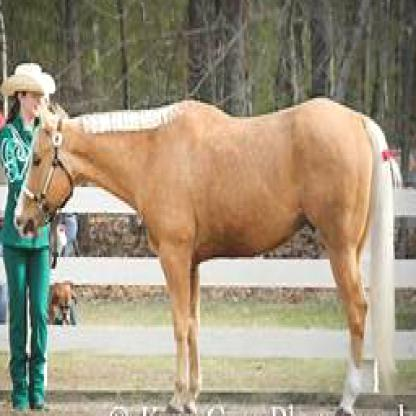horse: (13, 98, 401, 414)
